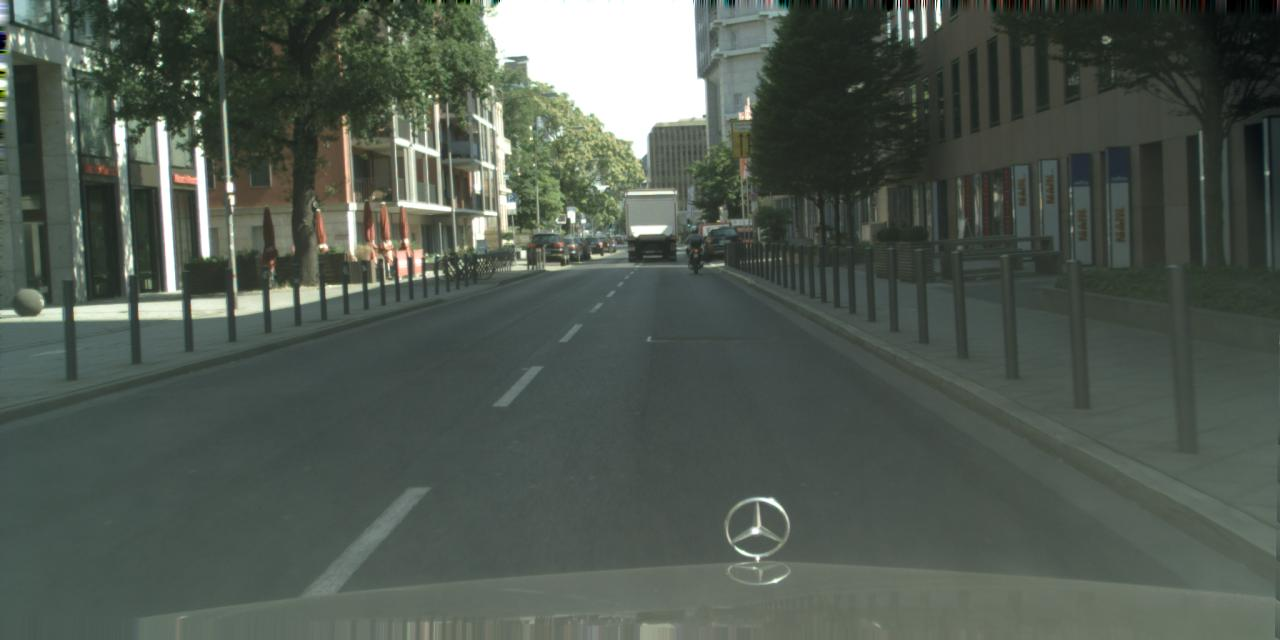ped: (686, 225, 702, 262)
